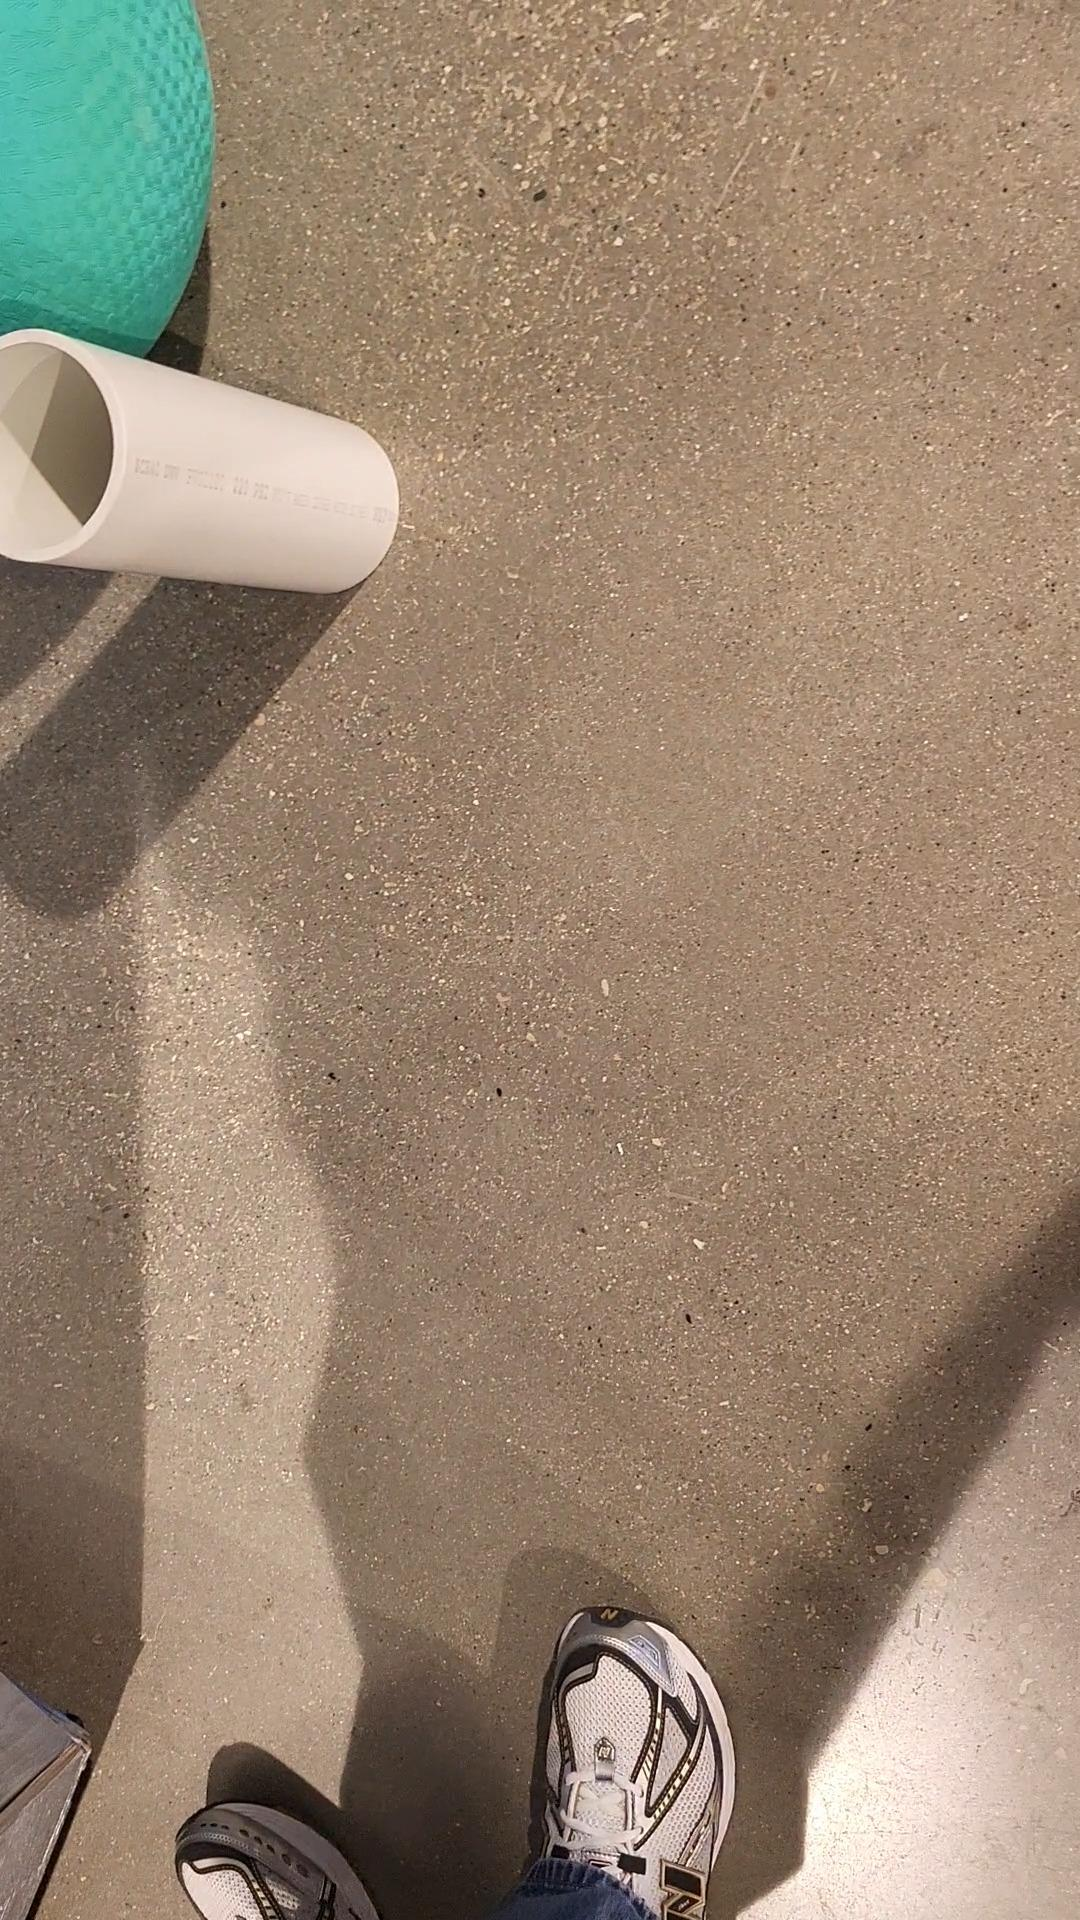algae: (0, 0, 214, 360)
coral: (0, 326, 401, 595)
